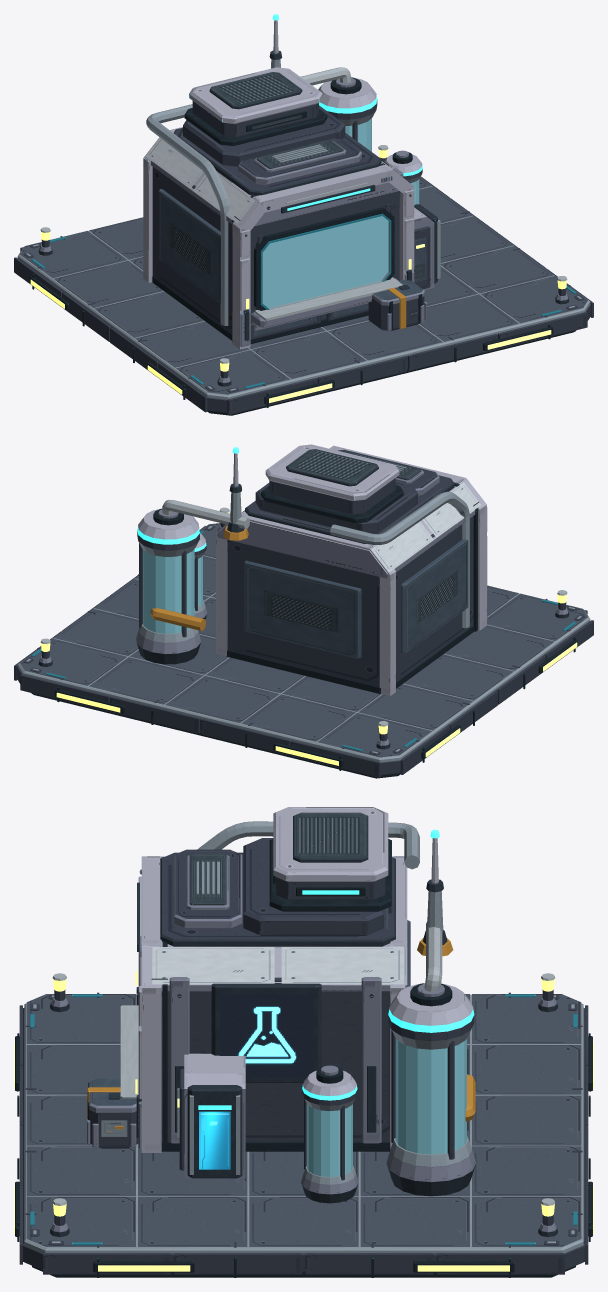
File: LB02_LaboratorioDeAnalisis.fbx
3 views of the same model, one above another, from view 1: azimuth 30°, elevation 25°; view 2: azimuth 150°, elevation 25°; view 3: azimuth 270°, elevation 25° (orthographic). The views are drawn at different scales.
Parts seen in each view (by area): view 1: Estructura_2, Vidrios_2; view 2: Estructura_2, Vidrios_2; view 3: Estructura_2, Vidrios_2.
Part boxes in pixels (x1,y1,x2,y2): Estructura_2: (14,14,593,415); Vidrios_2: (262,118,419,308); Estructura_2: (14,444,593,778); Vidrios_2: (143,549,202,633); Estructura_2: (14,807,593,1277); Vidrios_2: (306,1038,466,1176).
Bounding box in the file's own units: 6.52 × 3.88 × 6.06.
